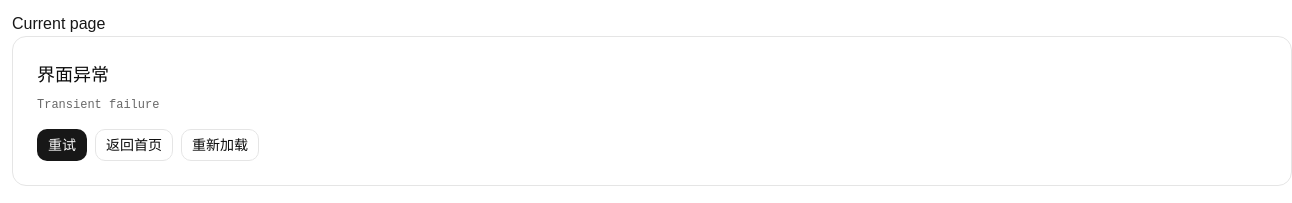
Scenario: route error boundary › recovers a failed page when navigating to the same path again
Click the link "Current page": (59, 24) [12,15,105,32]
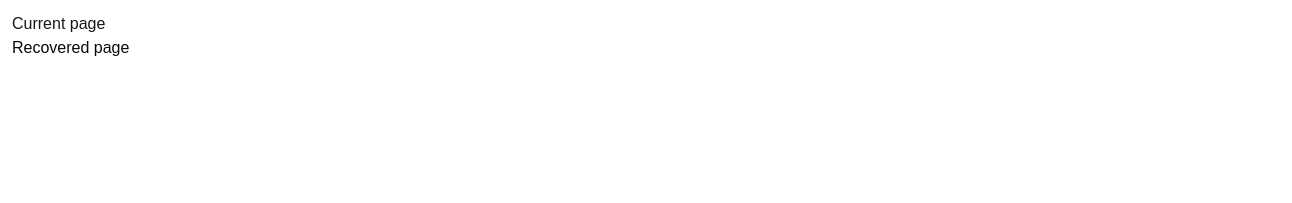
Check: the text "Recovered page" is shown, box [12,39,129,56]
Check: the message "界面异常 Transient failure 重试 返回首页 重新加载" is gone
